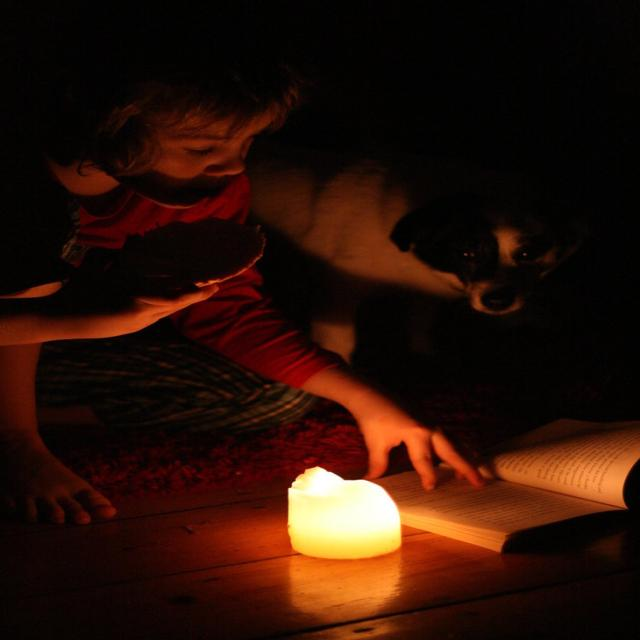People: (23, 62, 318, 494)
dog: (303, 131, 640, 405)
